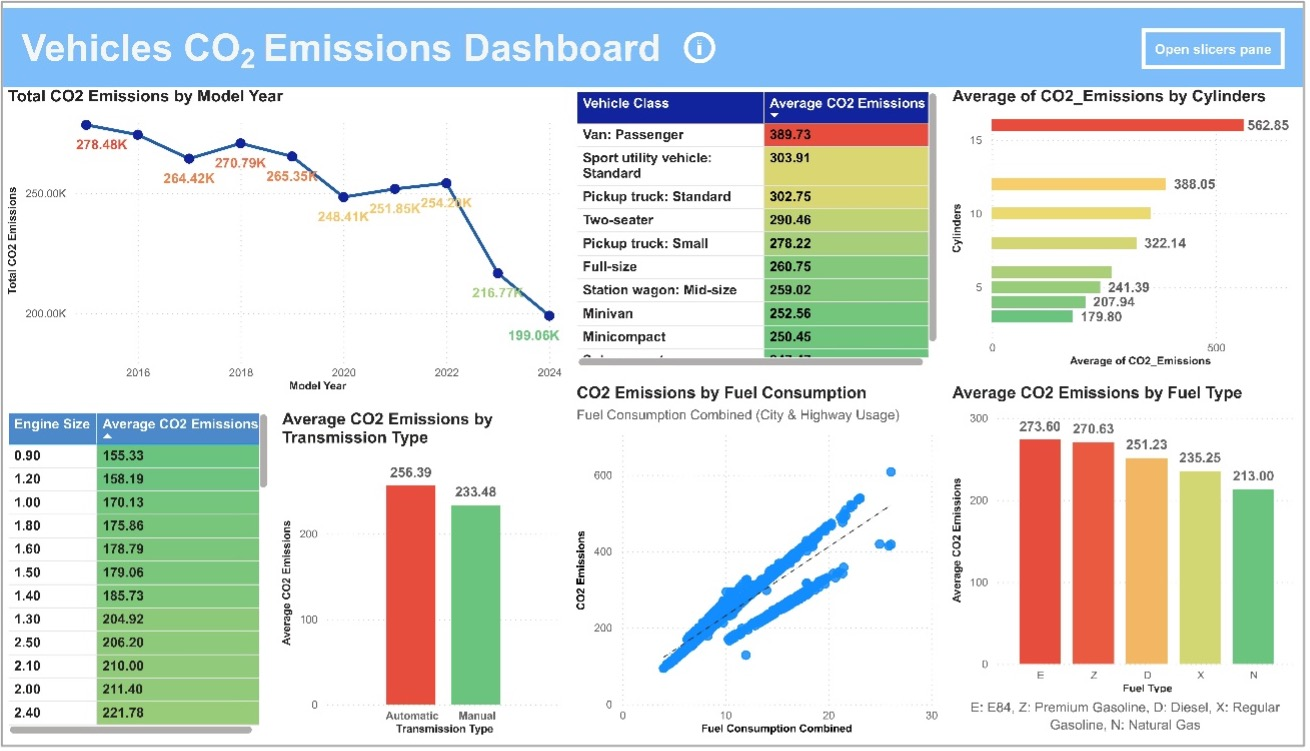

What the dashboard file says about the page in this screenshot:
{"tool":"powerbi","page":{"name":"Descriptive","canvas":[1280,720],"ordinal":0},"visuals":[{"type":"tableEx","fields":{"Values":["Predicted CO2 Emissions with Residuals.Vehicle_Class","Avg(Predicted CO2 Emissions with Residuals.CO2_Emissions)"]},"box":[559.7,78,365,280],"z":0},{"type":"scatterChart","title":"CO2 Emissions by Fuel Consumption","fields":{"Y":["Predicted CO2 Emissions with Residuals.CO2_Emissions"],"X":["Predicted CO2 Emissions with Residuals.Fuel_Consumption_Combined"]},"box":[559.7,369.7,365,350.3],"z":1000},{"type":"columnChart","fields":{"Y":["Avg(Predicted CO2 Emissions with Residuals.CO2_Emissions)"],"Category":["Predicted CO2 Emissions with Residuals.Fuel_Type"]},"box":[929.7,370,349.1,310.7],"z":2000,"group":"g1"},{"type":"tableEx","fields":{"Values":["Predicted CO2 Emissions with Residuals.Engine_Size","Avg(Predicted CO2 Emissions with Residuals.CO2_Emissions)"]},"box":[0,394.5,266.5,325.8],"z":2000},{"type":"shape","title":"Vehicles'' CO2 Emissions Dashboard","box":[0,0,1280,78],"z":3000},{"type":"textbox","box":[12.6,12.6,654.6,65.2],"z":4000},{"type":"textbox","box":[930,674.5,350.3,45.5],"z":4000,"group":"g1"},{"type":"lineChart","fields":{"Category":["Predicted CO2 Emissions with Residuals.Model_Year"],"Y":["Sum(Predicted CO2 Emissions with Residuals.CO2_Emissions)"]},"box":[0,78,555,305],"z":6000},{"type":"group","id":"g1","title":"Group 1","box":[929.7,370,350.6,350],"z":7000},{"type":"barChart","fields":{"Y":["Avg(Predicted CO2 Emissions with Residuals.CO2_Emissions)"],"Category":["Predicted CO2 Emissions with Residuals.Cylinders"]},"box":[929.7,78,350.3,280.4],"z":8000},{"type":"columnChart","fields":{"Category":["Predicted CO2 Emissions with Residuals.Transmission_Type"],"Y":["Avg(Predicted CO2 Emissions with Residuals.CO2_Emissions)"]},"box":[270,395.6,285.1,324.7],"z":9000},{"type":"actionButton","box":[666.4,19.5,40,40.2],"z":10000},{"type":"actionButton","box":[1120.9,20,141.4,40.1],"z":22000}]}

Visuals, with their boxes in screenshot pixels (x1, y1, x2, y2), scaled from the page's 1280x720 canvas onto the 1310x751 screenshot:
tableEx - Predicted CO2 Emissions with Residuals.Vehicle_Class x Avg(Predicted CO2 Emissions with Residuals.CO2_Emissions): bbox=(573, 81, 946, 373)
"CO2 Emissions by Fuel Consumption" scatterChart: bbox=(573, 386, 946, 750)
columnChart - Avg(Predicted CO2 Emissions with Residuals.CO2_Emissions) x Predicted CO2 Emissions with Residuals.Fuel_Type: bbox=(951, 386, 1309, 710)
tableEx - Predicted CO2 Emissions with Residuals.Engine_Size x Avg(Predicted CO2 Emissions with Residuals.CO2_Emissions): bbox=(0, 411, 273, 750)
"Vehicles'' CO2 Emissions Dashboard" shape: bbox=(0, 0, 1309, 81)
textbox: bbox=(13, 13, 683, 81)
textbox: bbox=(952, 704, 1309, 750)
lineChart - Predicted CO2 Emissions with Residuals.Model_Year x Sum(Predicted CO2 Emissions with Residuals.CO2_Emissions): bbox=(0, 81, 568, 399)
"Group 1" group: bbox=(951, 386, 1309, 750)
barChart - Avg(Predicted CO2 Emissions with Residuals.CO2_Emissions) x Predicted CO2 Emissions with Residuals.Cylinders: bbox=(951, 81, 1309, 374)
columnChart - Predicted CO2 Emissions with Residuals.Transmission_Type x Avg(Predicted CO2 Emissions with Residuals.CO2_Emissions): bbox=(276, 413, 568, 750)
actionButton: bbox=(682, 20, 723, 62)
actionButton: bbox=(1147, 21, 1292, 63)
